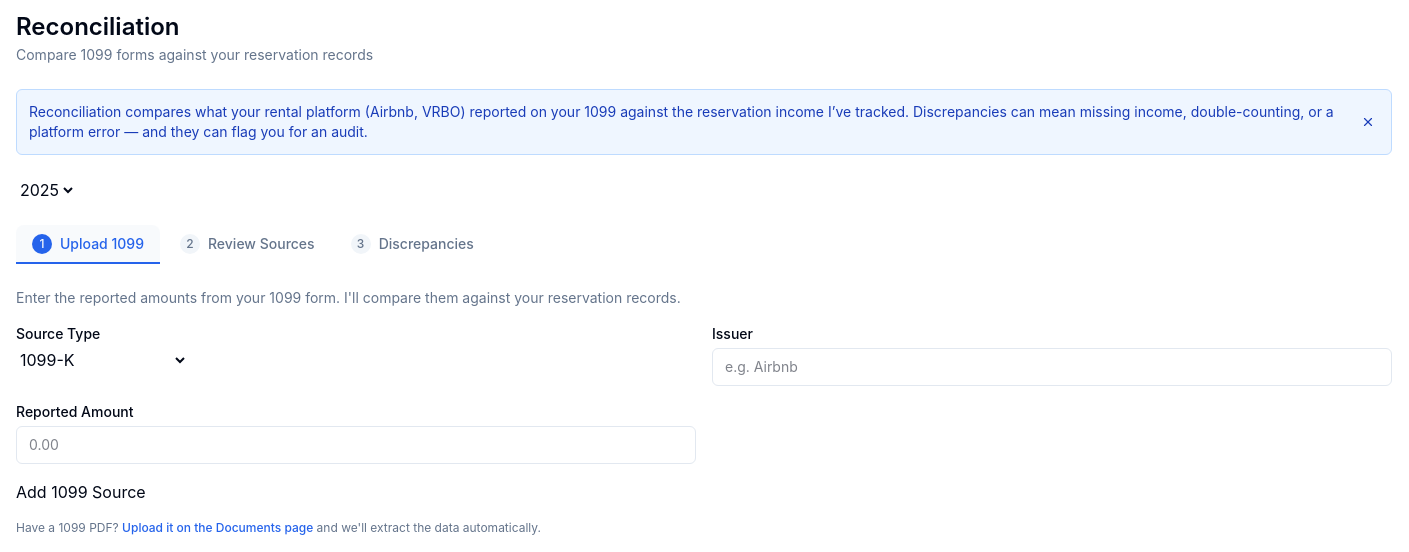
Reconciliation — info alert › clicking Dismiss hides the alert
Click the button named "Dismiss" at (1368, 122), box left=1357, top=111, right=1379, bottom=133
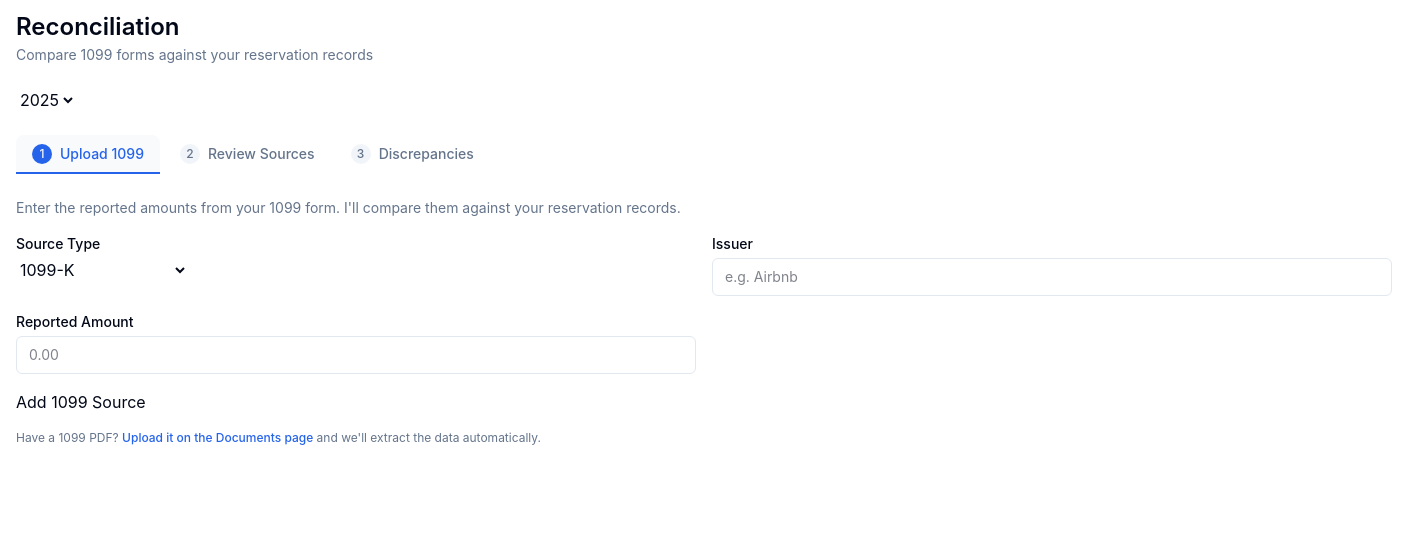
Check: the text "Reconciliation compares what your rental platform" is gone
